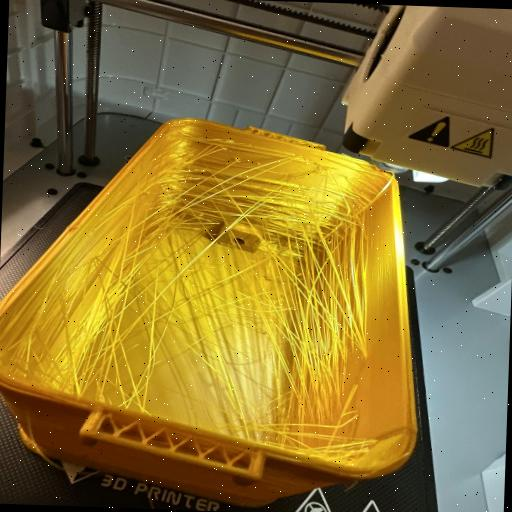stringing: (119, 150, 386, 436)
